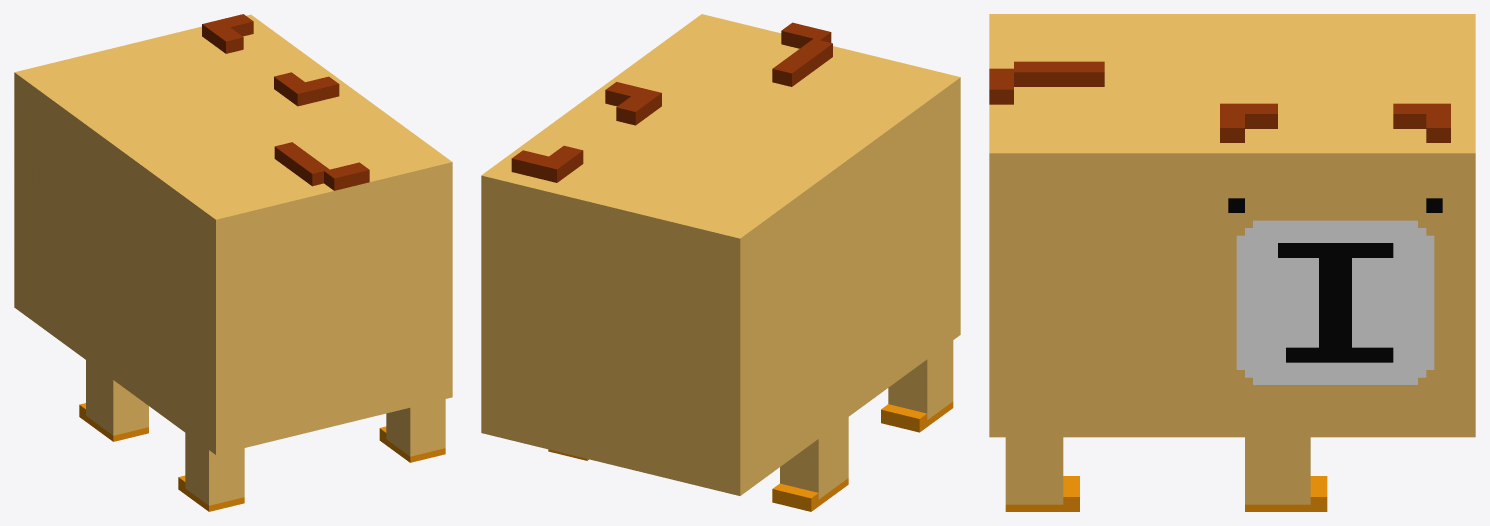
File: DogModel.obj
The picture shows the model from 3 angles, left to right: view 1: azimuth 30°, elevation 25°; view 2: azimuth 150°, elevation 25°; view 3: azimuth 270°, elevation 25°; orthographic projection. The views are drawn at different scales.
Size of the model in its own units: 4 by 5 by 5.9.
Materials: 1 (1 with a texture image).
